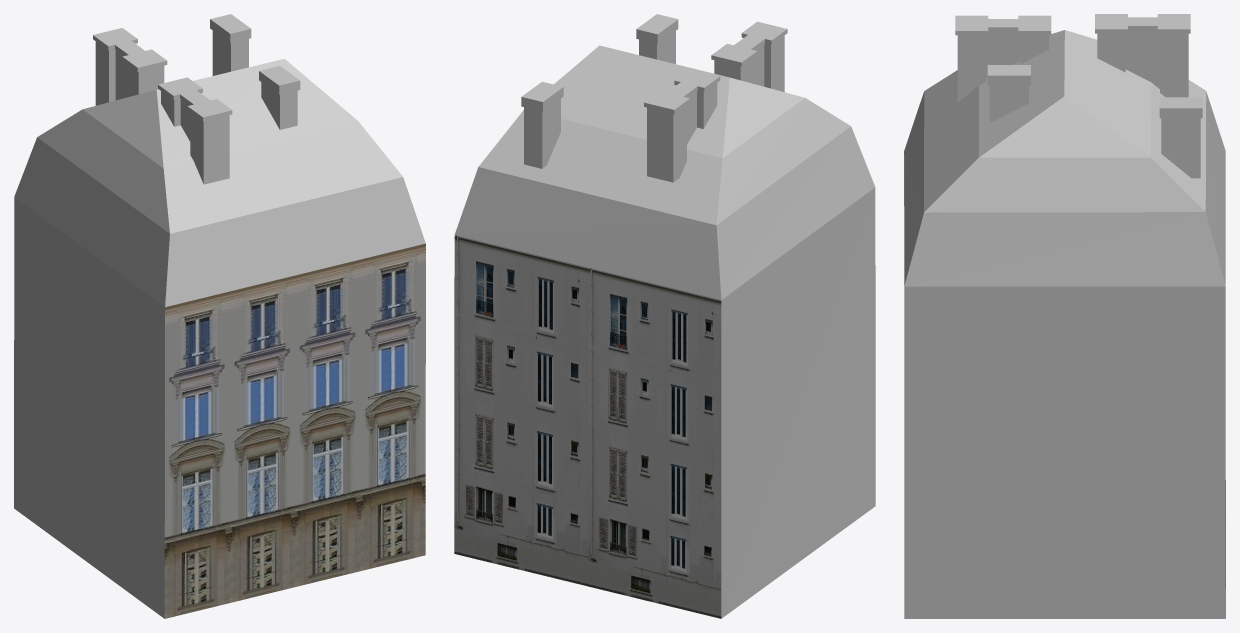
The model's file is LOD01_Builiding_ParisShopBread.obj.
The picture shows the model from 3 angles, left to right: view 1: azimuth 30°, elevation 25°; view 2: azimuth 150°, elevation 25°; view 3: azimuth 270°, elevation 25°; orthographic projection. The views are drawn at different scales.
Parts seen in each view (by area): view 1: LOD01_Builiding_ParisShopBread; view 2: LOD01_Builiding_ParisShopBread; view 3: LOD01_Builiding_ParisShopBread.
Boxes of the visible parts, x1,y1,x2,y2 form: LOD01_Builiding_ParisShopBread: [14, 14, 425, 618]; LOD01_Builiding_ParisShopBread: [454, 14, 875, 618]; LOD01_Builiding_ParisShopBread: [904, 14, 1225, 618].
Bounding box in the file's own units: 3.9 × 6.71 × 3.9.
